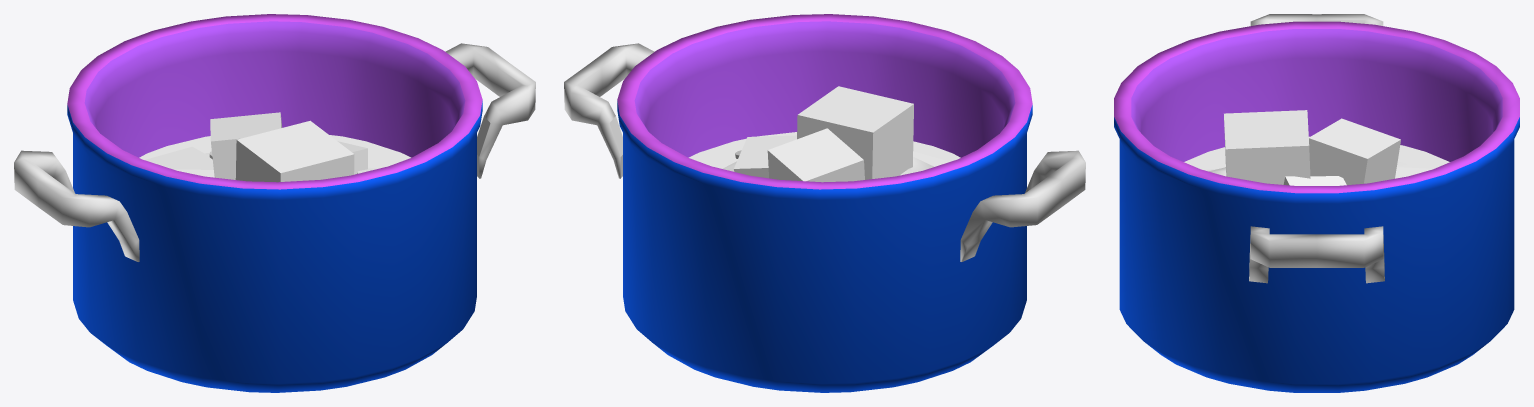
Rendered from MisoSoupPot.fbx.
The picture shows the model from 3 angles, left to right: view 1: azimuth 30°, elevation 25°; view 2: azimuth 150°, elevation 25°; view 3: azimuth 270°, elevation 25°; orthographic projection.
Visible parts, largest first — view 1: Cylinder.013, Cylinder.014, Chopped Tofu.002, Water.003; view 2: Cylinder.013, Chopped Tofu.002, Cylinder.014, Water.003; view 3: Cylinder.013, Chopped Tofu.002, Cylinder.014, Water.003.
Part boxes in pixels (x1,y1,x2,y2): Cylinder.013: [67, 14, 482, 392]; Cylinder.014: [14, 43, 535, 261]; Chopped Tofu.002: [144, 112, 367, 182]; Water.003: [139, 135, 411, 168]; Cylinder.013: [617, 14, 1032, 392]; Chopped Tofu.002: [734, 86, 949, 182]; Cylinder.014: [564, 43, 1085, 261]; Water.003: [688, 132, 960, 168]; Cylinder.013: [1114, 21, 1519, 392]; Chopped Tofu.002: [1204, 110, 1433, 185]; Cylinder.014: [1249, 14, 1384, 283]; Water.003: [1184, 136, 1449, 169].
Size of the model in its own units: 83.38 by 35.99 by 62.94.
